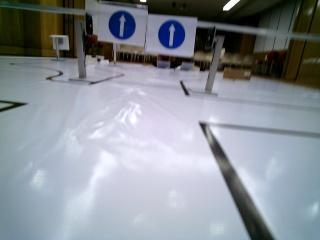straight: (98, 6, 146, 44), (148, 16, 191, 55)
